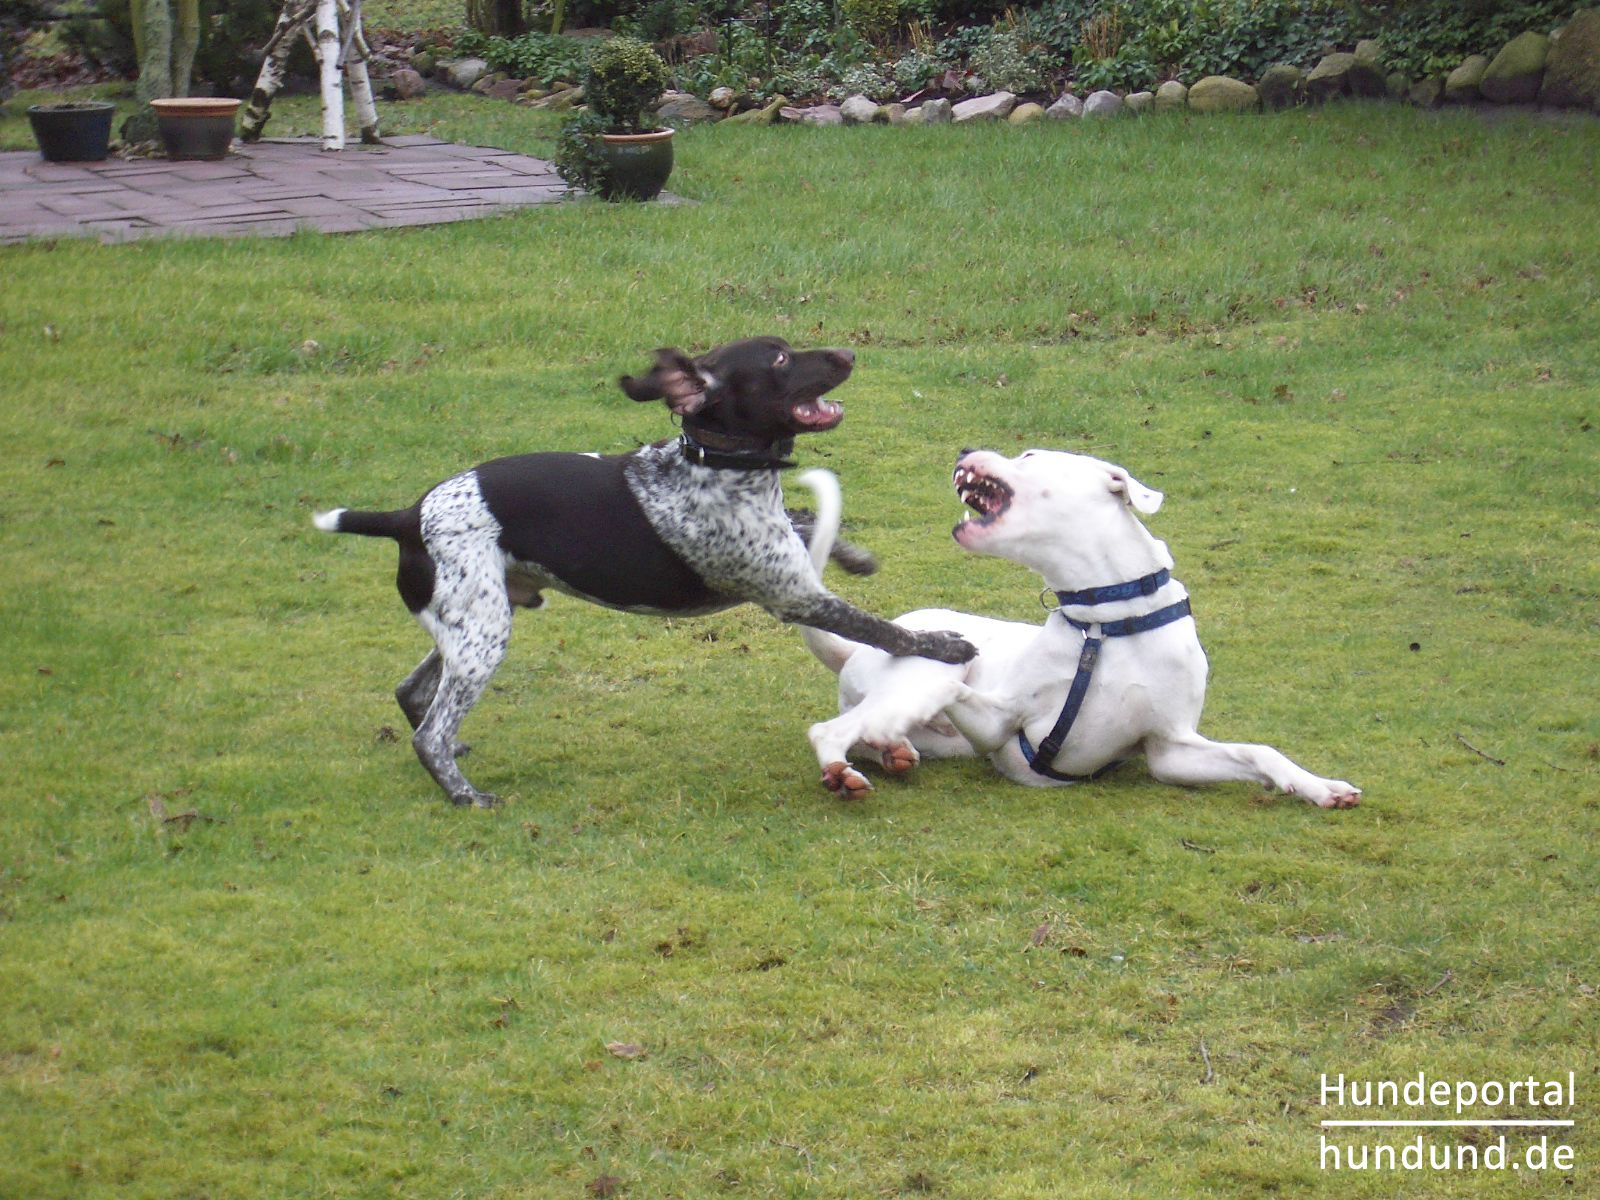dogo_argentino: (786, 442, 1361, 808)
other_dog_breed: (307, 334, 981, 813)
